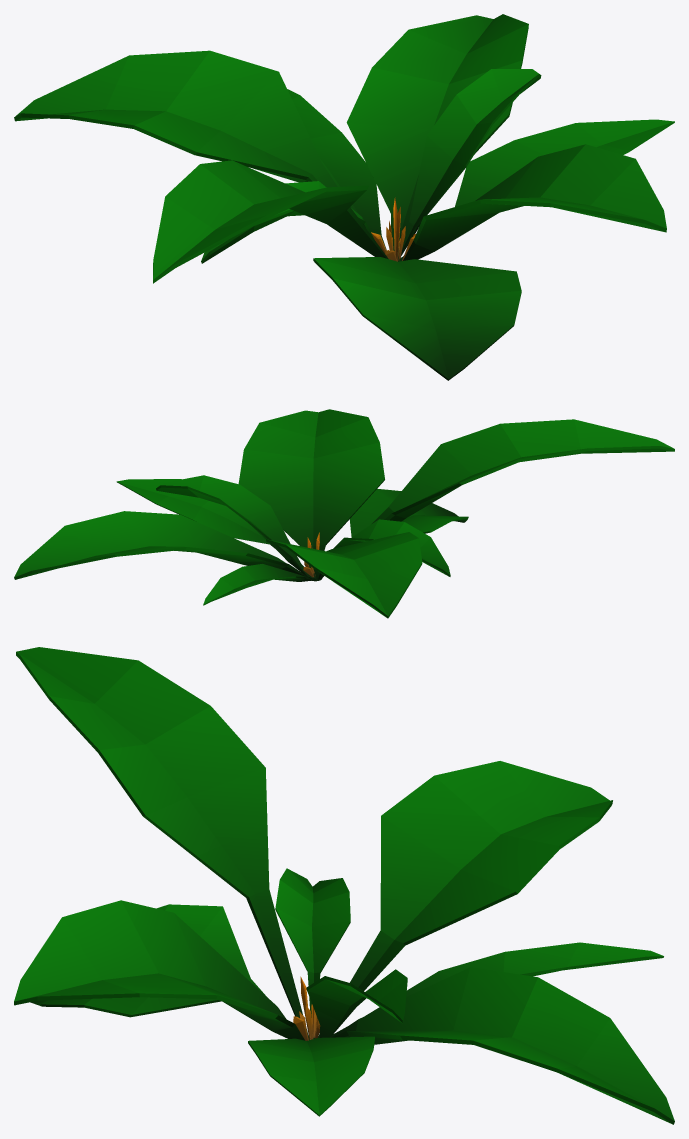
Rendered from Helecho_1_elementosDecorativos_T.fbx.
3 views of the same model, one above another, from view 1: azimuth 30°, elevation 25°; view 2: azimuth 150°, elevation 25°; view 3: azimuth 270°, elevation 25° (orthographic). The views are drawn at different scales.
Parts seen in each view (by area): view 1: Helecho 2; view 2: Helecho 2; view 3: Helecho 2.
Part boxes in pixels (bbox=[...]): Helecho 2: bbox=[14, 14, 674, 380]; Helecho 2: bbox=[14, 409, 674, 618]; Helecho 2: bbox=[14, 647, 674, 1124].
Size of the model in its own units: 1067 by 313 by 852.
